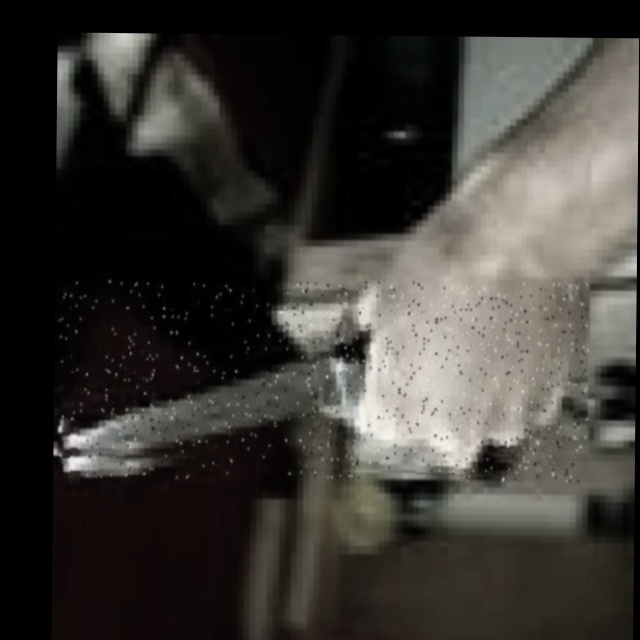Sharp-Object: (57, 279, 589, 483)
